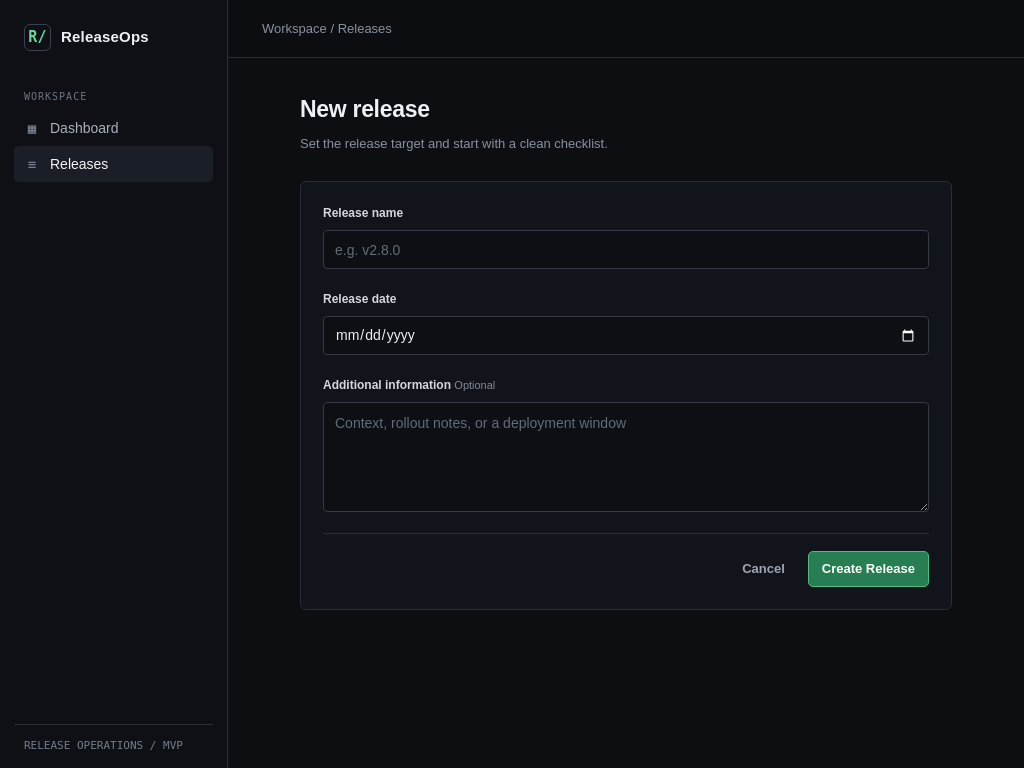
Test: create release form › shows required field errors without submitting
Click the button "Create Release": (868, 569) [808,551,929,587]
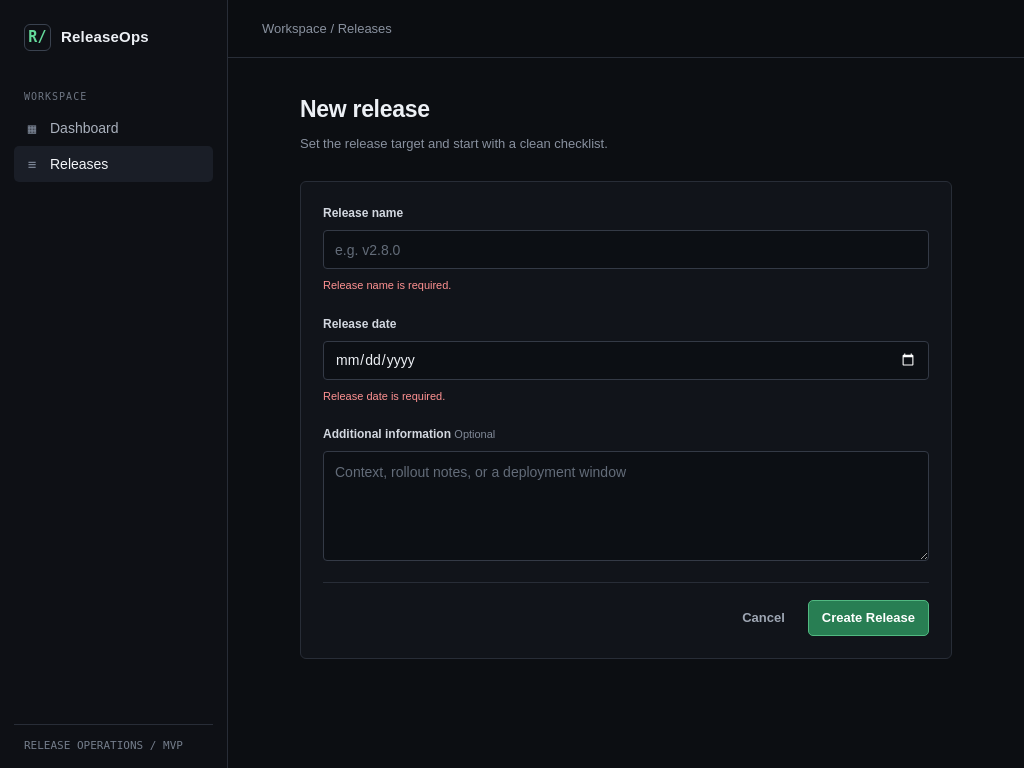
Expected: the text "Release name is required." is shown, [323,279,451,291]
Expected: the text "Release date is required." is shown, [323,390,445,402]
